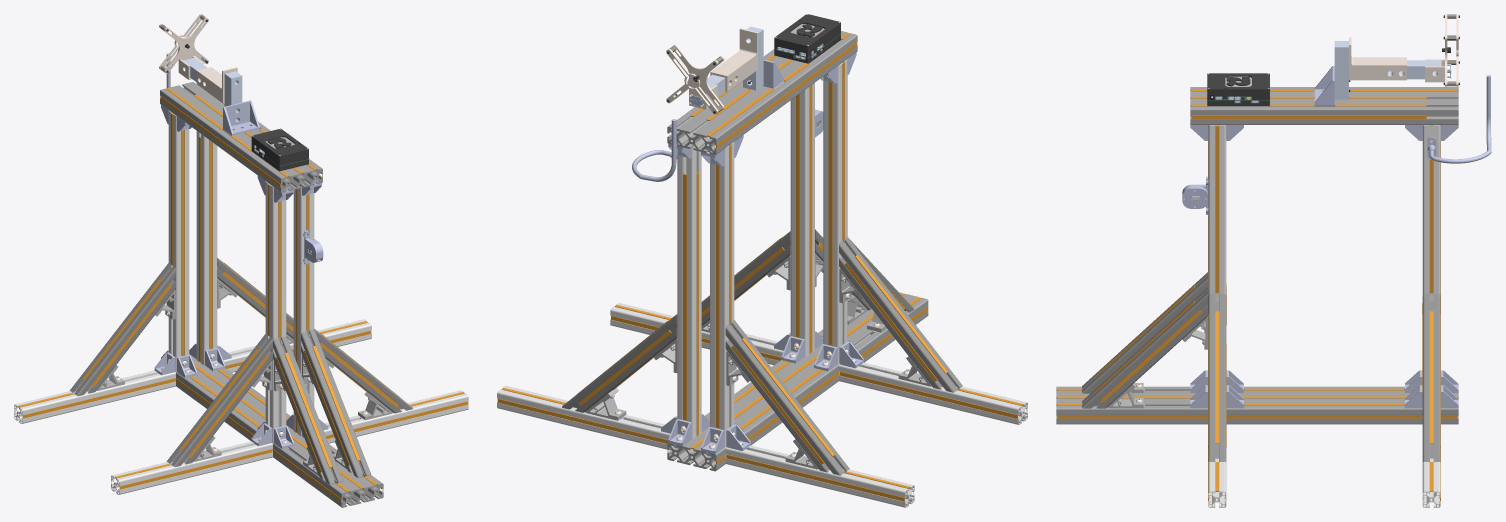
File: rts-ultra-50.glb
3 views of the same model, side by side, from view 1: azimuth 30°, elevation 25°; view 2: azimuth 150°, elevation 25°; view 3: azimuth 270°, elevation 25° (orthographic). The views are drawn at different scales.
Visible parts, largest first — view 1: p1048, p80, p1047, p1063, p1065, p1064, p1072, p1068, p1052, p1066, p1067, p1071 (+22 smaller); view 2: p1048, p80, p1047, p1063, p1065, p1064, p1068, p1072, p1067, p1071, p1054, p1053 (+21 smaller); view 3: p1048, p80, p1227, p1066, p1053, p1070, p1064, p1063, p1228, p1052, p82, p15 (+12 smaller).
Boxes of the visible parts, x1=… form: p1048: x1=175, y1=354, x2=383, y2=507; p80: x1=160, y1=82, x2=322, y2=192; p1047: x1=168, y1=110, x2=189, y2=371; p1063: x1=196, y1=131, x2=217, y2=365; p1065: x1=265, y1=181, x2=286, y2=442; p1064: x1=293, y1=185, x2=314, y2=436; p1072: x1=167, y1=334, x2=272, y2=467; p1068: x1=70, y1=263, x2=175, y2=396; p1052: x1=273, y1=336, x2=343, y2=484; p1066: x1=301, y1=329, x2=371, y2=477; p1067: x1=14, y1=370, x2=175, y2=423; p1071: x1=111, y1=441, x2=272, y2=494; p1048: x1=667, y1=292, x2=928, y2=471; p80: x1=667, y1=31, x2=857, y2=155; p1047: x1=710, y1=142, x2=734, y2=447; p1063: x1=677, y1=146, x2=701, y2=439; p1065: x1=823, y1=59, x2=847, y2=364; p1064: x1=790, y1=83, x2=814, y2=356; p1068: x1=725, y1=320, x2=849, y2=475; p1072: x1=839, y1=237, x2=962, y2=392; p1067: x1=725, y1=445, x2=914, y2=507; p1071: x1=839, y1=362, x2=1027, y2=424; p1054: x1=497, y1=385, x2=671, y2=450; p1053: x1=562, y1=314, x2=677, y2=412; p1048: x1=1056, y1=386, x2=1458, y2=424; p80: x1=1190, y1=87, x2=1458, y2=124; p1227: x1=1057, y1=388, x2=1457, y2=418; p1066: x1=1082, y1=287, x2=1208, y2=408; p1053: x1=1422, y1=293, x2=1440, y2=461; p1070: x1=1208, y1=293, x2=1226, y2=461; p1064: x1=1208, y1=125, x2=1226, y2=301; p1063: x1=1422, y1=125, x2=1440, y2=301; p1228: x1=1191, y1=89, x2=1457, y2=118; p1052: x1=1082, y1=272, x2=1207, y2=393; p82: x1=1207, y1=73, x2=1269, y2=99; p15: x1=1349, y1=37, x2=1406, y2=80.
Size of the model in its own units: 1000 by 960 by 974.
